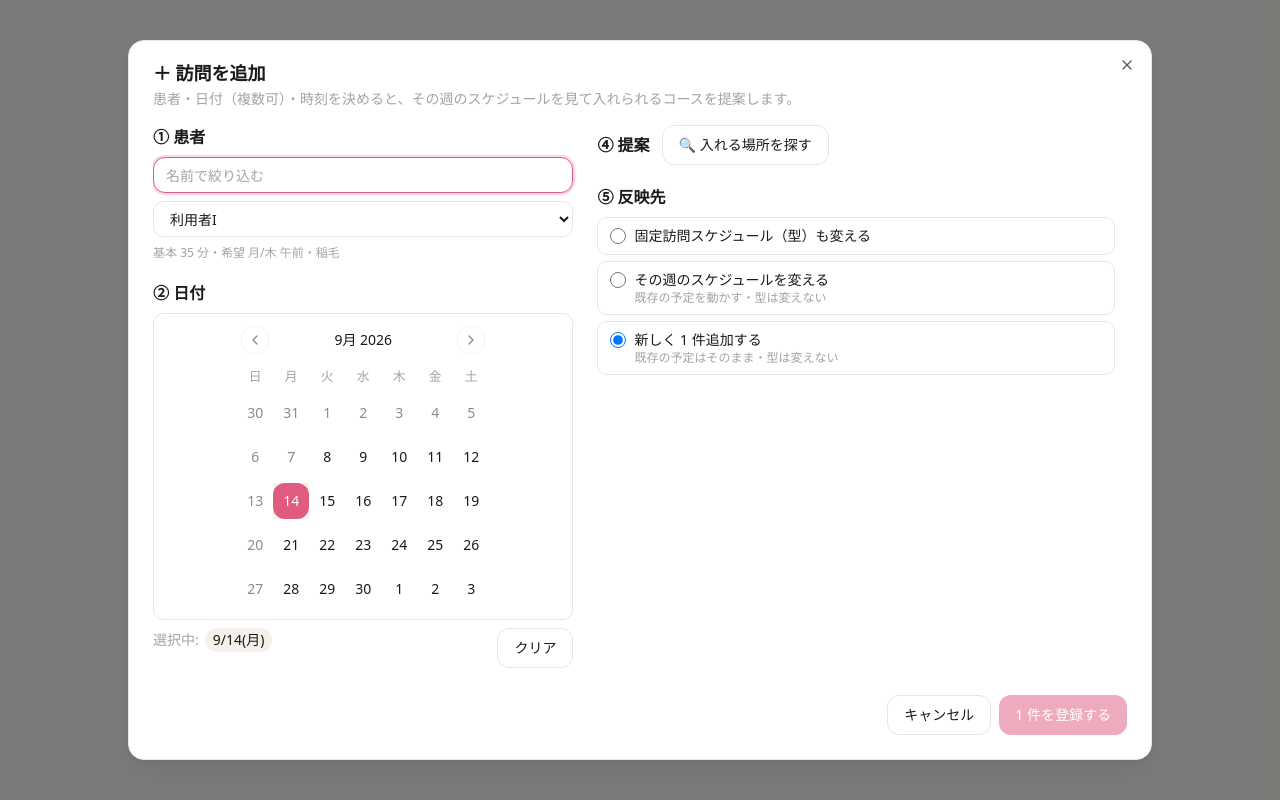
Scenario: AddVisitAnywhereDialog › H3 コースを特定できない候補は行にエラーを出し登録させない
Click the button with test id "ava-propose" at (745, 145), box [662, 125, 829, 165]
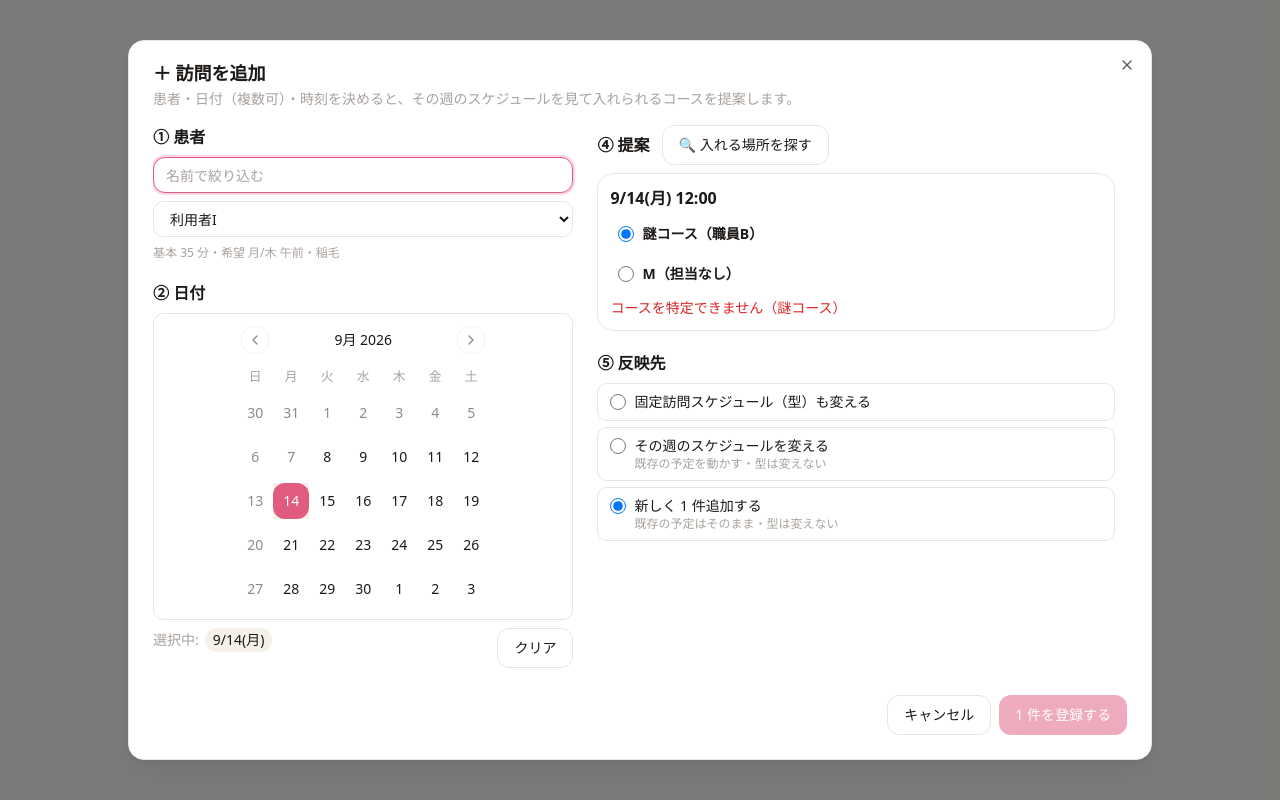
Check: the button with test id "ava-submit" is disabled, box [999, 695, 1127, 735]
Check: the text with test id "ava-row-error-2026-09-14" reads "コースを特定できません（謎コース）", box [610, 298, 847, 317]
# M へ切り替えれば登録できる
Click the radio button with test id "ava-cand-2026-09-14-__M__" at (626, 274), box [618, 266, 634, 282]
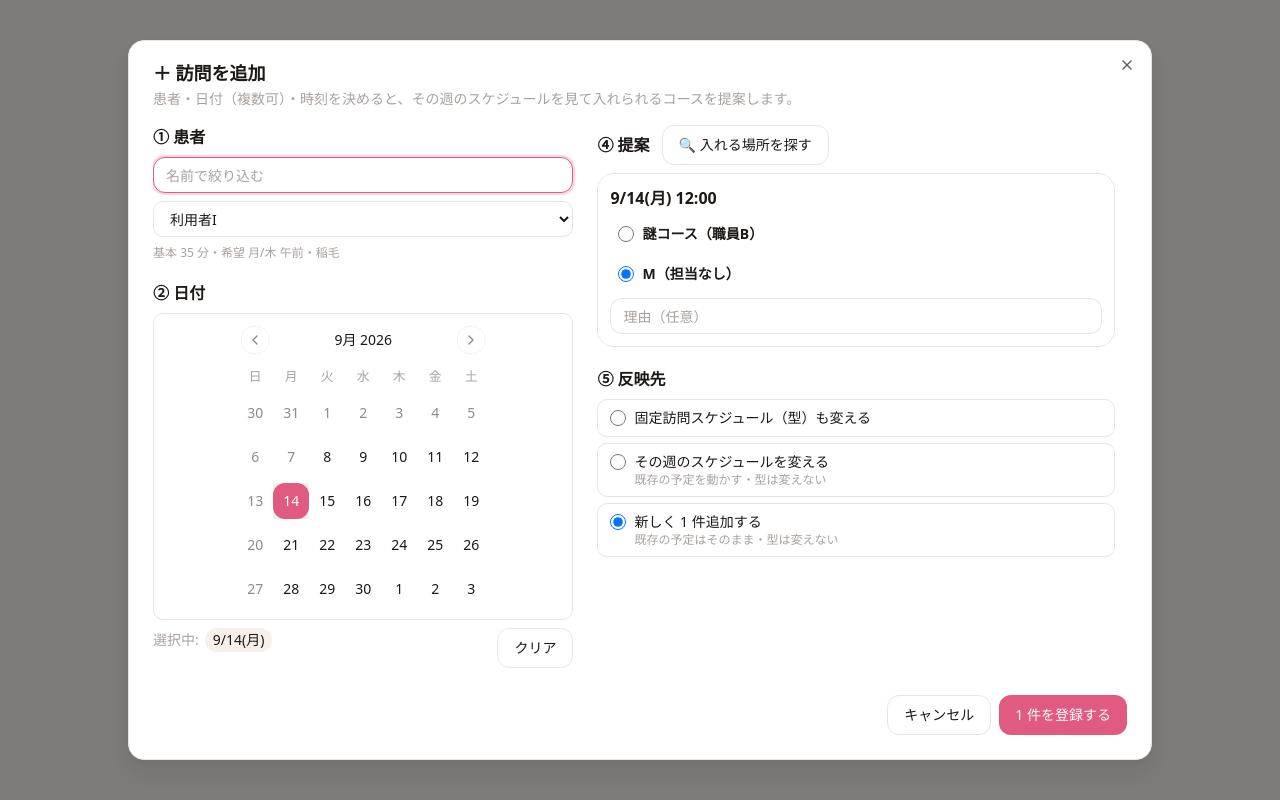
Check: the text with test id "ava-row-error-2026-09-14" is gone
Check: the button with test id "ava-submit" is enabled, box [999, 695, 1127, 735]
